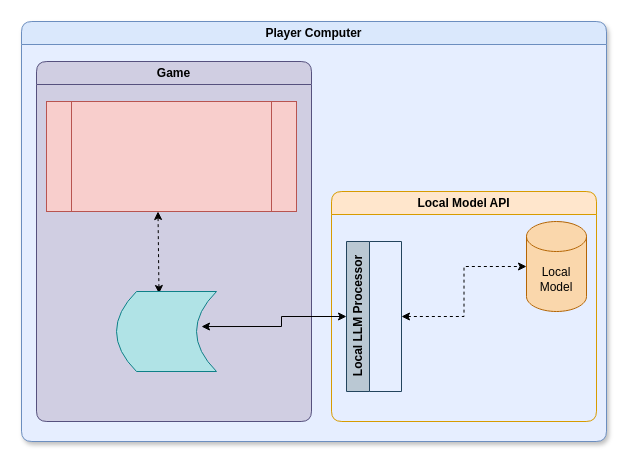
The diagram is 630 pixels wide and 466 high, and some of its shapes have lost their labels. Here are the shapes that lost their labels. From the top down, the centre of each, then its label:
the point at 171,156: Game Systems
the point at 166,331: Mod
